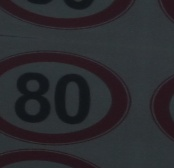Speed limit: (0, 42, 123, 148)
